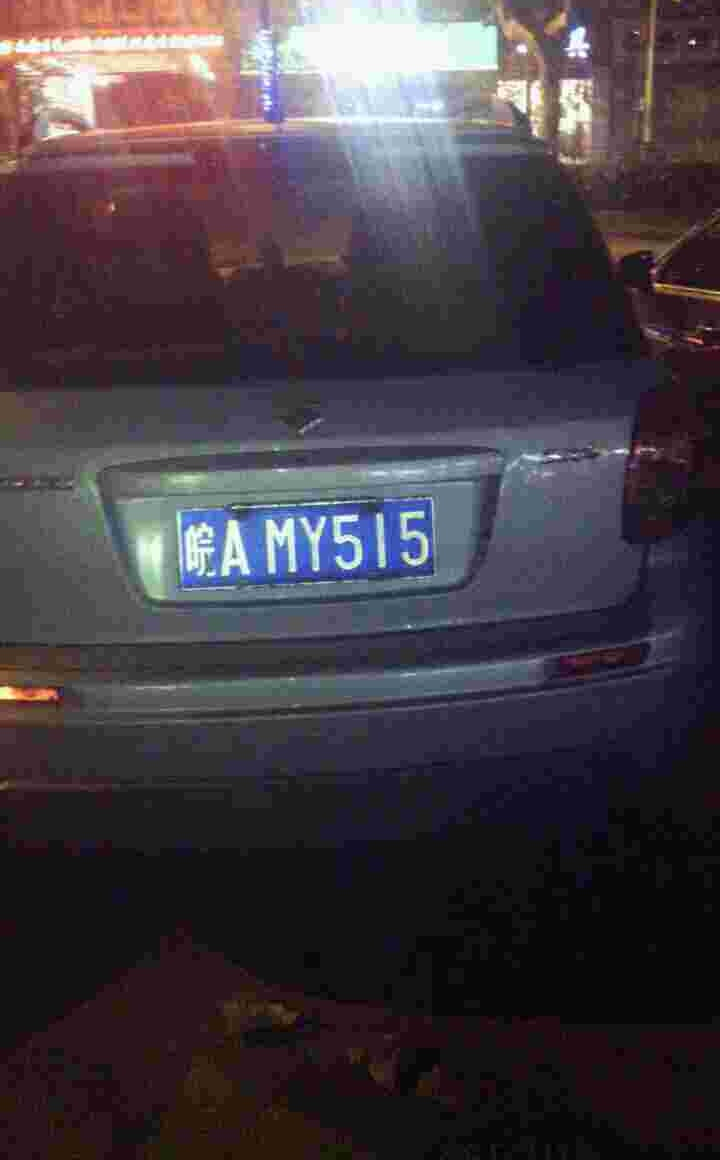license_plate: (170, 501, 444, 590)
